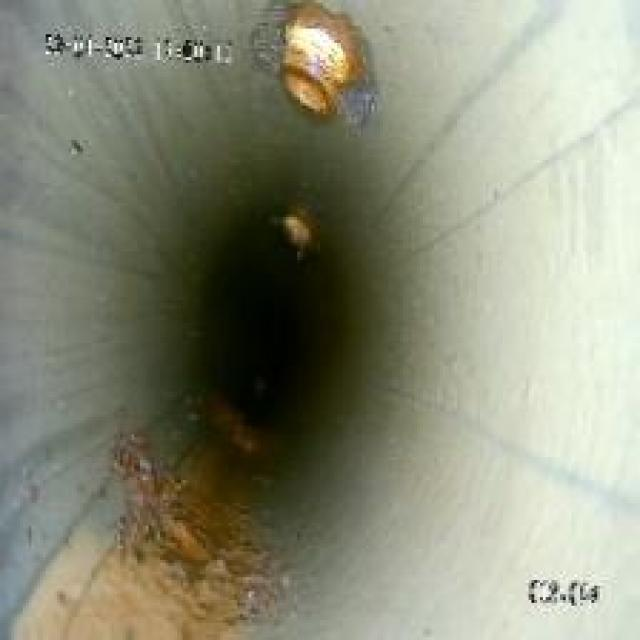ferrule: (266, 11, 366, 120), (271, 203, 323, 248)
